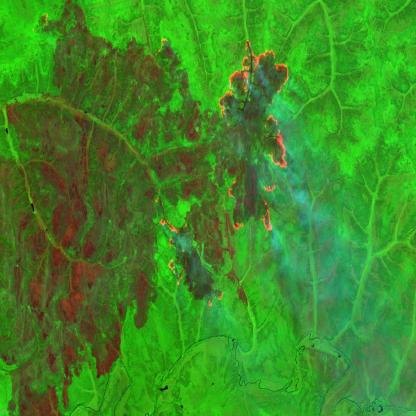fire: (217, 40, 290, 235), (159, 210, 188, 288), (206, 286, 227, 313), (152, 29, 170, 58)
